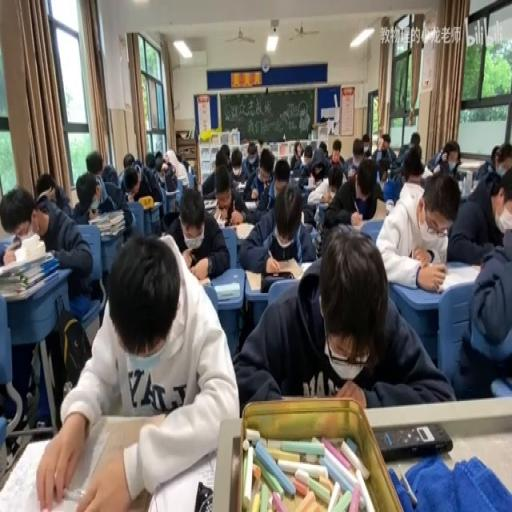calculator: (0, 424, 116, 509), (149, 445, 221, 512), (89, 208, 126, 238), (442, 263, 484, 289), (259, 256, 304, 279), (457, 165, 477, 193), (366, 196, 388, 220), (11, 230, 39, 248), (214, 282, 240, 300), (244, 268, 262, 292), (234, 222, 256, 240), (138, 196, 160, 209), (297, 180, 316, 194), (212, 205, 225, 223), (298, 258, 314, 272), (203, 196, 217, 209), (219, 220, 236, 230), (350, 220, 364, 232), (385, 199, 394, 213), (176, 174, 188, 184), (243, 201, 257, 209), (197, 276, 211, 284), (235, 180, 246, 190), (290, 175, 302, 183)
paper: (233, 225, 450, 411), (2, 179, 93, 428), (236, 176, 315, 270), (446, 159, 512, 266), (165, 184, 229, 280), (323, 154, 385, 232), (119, 159, 163, 229), (36, 168, 72, 215), (426, 137, 461, 179), (87, 151, 117, 193), (371, 131, 397, 173), (343, 135, 368, 175), (379, 164, 402, 204), (400, 145, 423, 179), (238, 142, 258, 181), (309, 148, 331, 183), (326, 139, 345, 168), (272, 162, 290, 189), (289, 140, 305, 170), (160, 169, 178, 192), (258, 154, 274, 179), (124, 178, 138, 199), (218, 144, 230, 168), (230, 151, 242, 175), (490, 144, 501, 168), (154, 151, 164, 172), (145, 150, 155, 170), (122, 152, 134, 168), (318, 141, 328, 158), (302, 145, 312, 162), (410, 131, 420, 145), (240, 132, 250, 145), (176, 150, 182, 164), (362, 135, 368, 148), (364, 145, 371, 155)
person: (373, 422, 452, 461)
